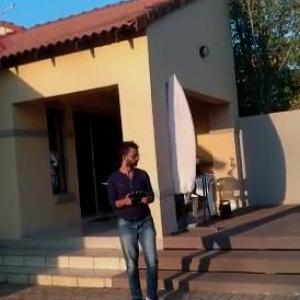follow: (106, 139, 166, 299)
